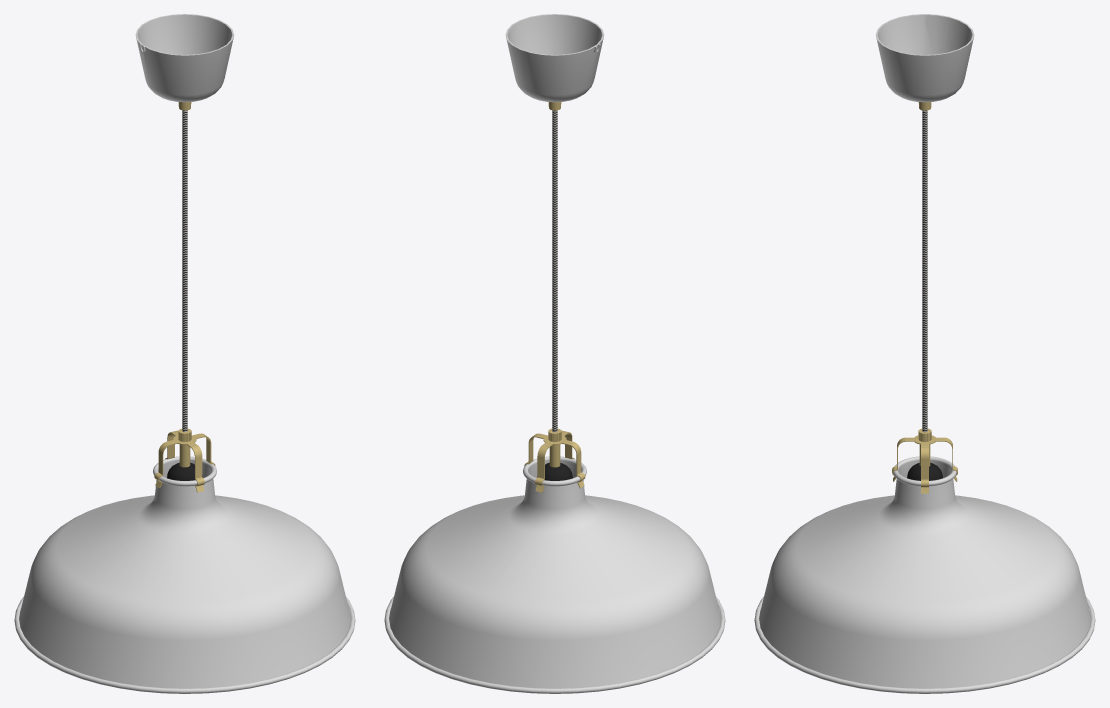
The model's file is Lampara1.dae.
The picture shows the model from 3 angles, left to right: view 1: azimuth 30°, elevation 25°; view 2: azimuth 150°, elevation 25°; view 3: azimuth 270°, elevation 25°; orthographic projection.
Visible parts, largest first — view 1: group_9, group_2, group_7, group_6; view 2: group_9, group_2, group_7, group_6; view 3: group_9, group_2, group_7, group_6.
Part boxes in pixels (<box>): group_9: <box>14,456,355,693</box>; group_2: <box>135,14,234,102</box>; group_7: <box>182,110,187,431</box>; group_6: <box>154,430,215,492</box>; group_9: <box>384,456,725,693</box>; group_2: <box>505,14,604,102</box>; group_7: <box>552,110,557,432</box>; group_6: <box>524,430,585,492</box>; group_9: <box>754,456,1095,693</box>; group_2: <box>876,14,974,102</box>; group_7: <box>922,110,927,432</box>; group_6: <box>892,435,957,493</box>.
Bounding box in the file's own units: 150 × 150 × 295.
